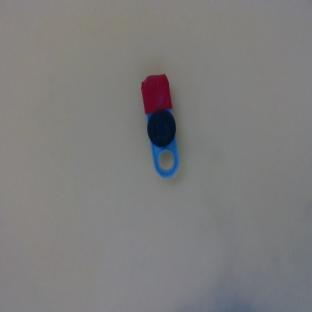part_1_good: (140, 73, 182, 179)
